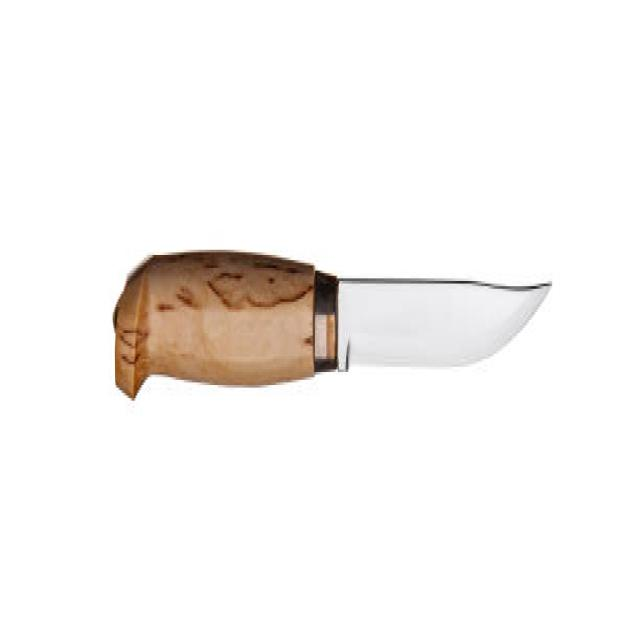knife: (112, 233, 556, 430)
